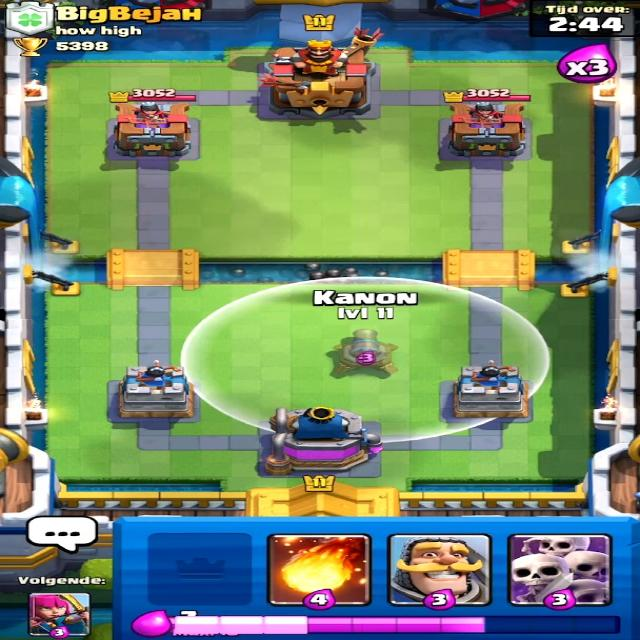Fireball_Card: (270, 530, 367, 606)
